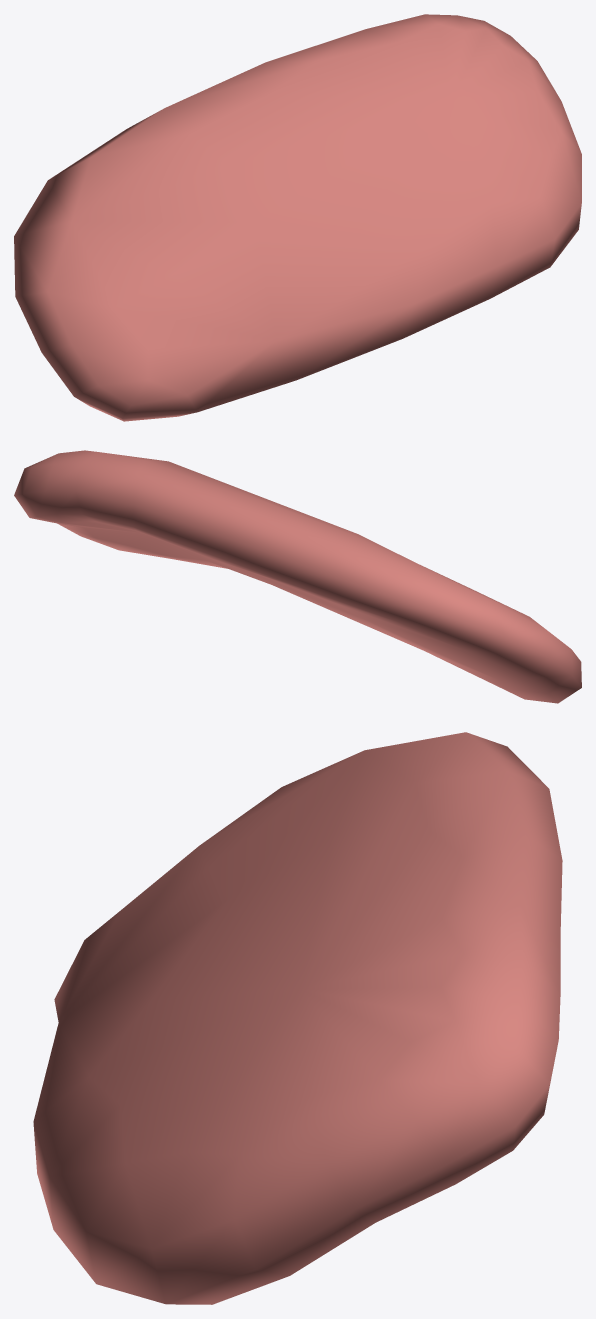
The picture shows the model from 3 angles, top to bottom: view 1: azimuth 30°, elevation 25°; view 2: azimuth 150°, elevation 25°; view 3: azimuth 270°, elevation 25°; orthographic projection. The views are drawn at different scales.
Visible parts, largest first — view 1: ZA_57127b591db55c15; view 2: ZA_57127b591db55c15; view 3: ZA_57127b591db55c15.
Boxes of the visible parts, x1,y1,x2,y2 form: ZA_57127b591db55c15: [14, 14, 581, 421]; ZA_57127b591db55c15: [14, 450, 581, 703]; ZA_57127b591db55c15: [33, 732, 562, 1304].
Size of the model in its own units: 0.00384 by 0.0016 by 0.00175.
